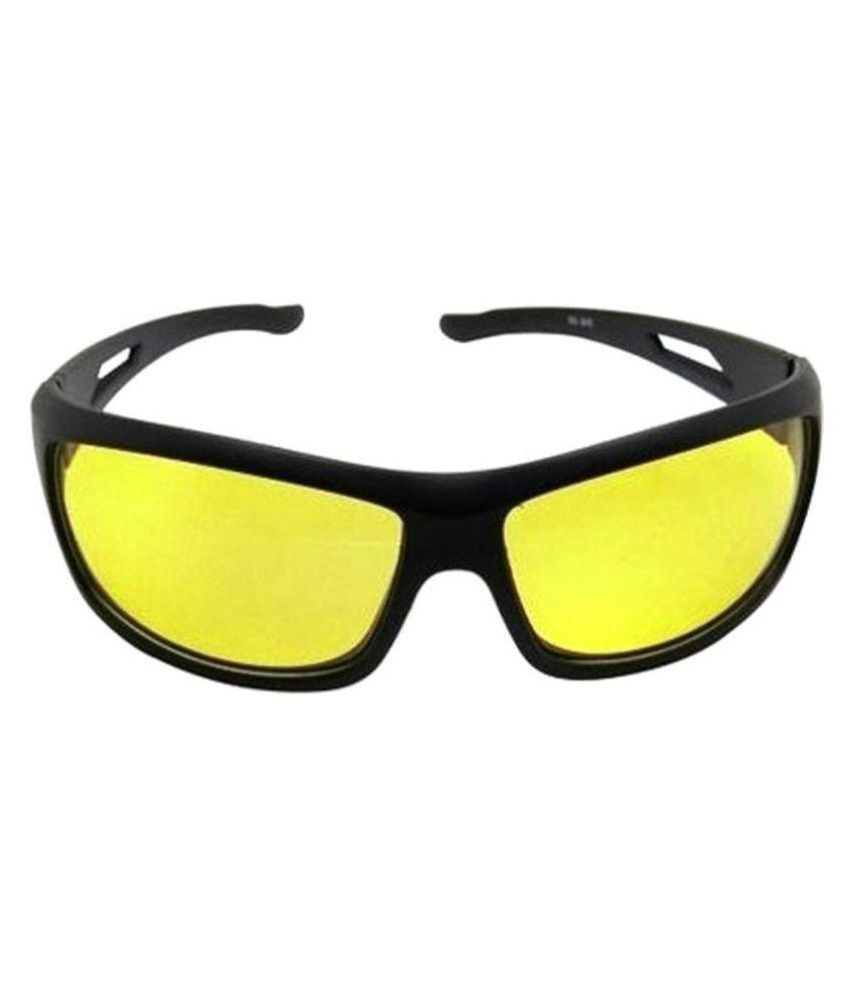sunglasses: (5, 293, 835, 696)
